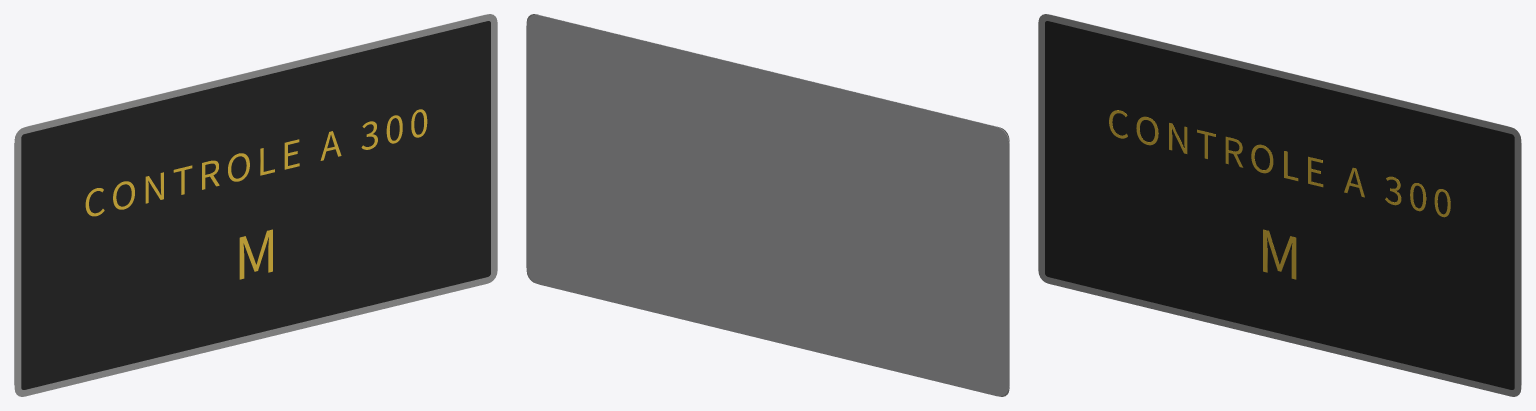
Rendered from MSG_CONTROLE_A_XXX_M.glb.
3 views of the same model, side by side, from view 1: azimuth 30°, elevation 25°; view 2: azimuth 150°, elevation 25°; view 3: azimuth 330°, elevation 25° (orthographic).
Parts seen in each view (by area): view 1: MSG_CONTROLE_A_XXX_M_fond01, MSG_CONTROLE_A_XXX_M_cadre00, MSG_CONTROLE_A_XXX_M_txt02, MSG_CONTROLE_A_XXX_M_txt03, MSG_CONTROLE_A_XXX_M_dos; view 2: MSG_CONTROLE_A_XXX_M_dos; view 3: MSG_CONTROLE_A_XXX_M_fond01, MSG_CONTROLE_A_XXX_M_cadre00, MSG_CONTROLE_A_XXX_M_txt02, MSG_CONTROLE_A_XXX_M_txt03, MSG_CONTROLE_A_XXX_M_dos.
Part boxes in pixels (left/top/right/bottom): MSG_CONTROLE_A_XXX_M_fond01: left=21, top=21, right=490, bottom=389; MSG_CONTROLE_A_XXX_M_cadre00: left=14, top=14, right=497, bottom=396; MSG_CONTROLE_A_XXX_M_txt02: left=85, top=109, right=427, bottom=216; MSG_CONTROLE_A_XXX_M_txt03: left=239, top=229, right=272, bottom=279; MSG_CONTROLE_A_XXX_M_dos: left=14, top=14, right=484, bottom=384; MSG_CONTROLE_A_XXX_M_dos: left=526, top=14, right=1009, bottom=396; MSG_CONTROLE_A_XXX_M_fond01: left=1045, top=21, right=1514, bottom=389; MSG_CONTROLE_A_XXX_M_cadre00: left=1038, top=14, right=1521, bottom=396; MSG_CONTROLE_A_XXX_M_txt02: left=1109, top=110, right=1450, bottom=217; MSG_CONTROLE_A_XXX_M_txt03: left=1263, top=229, right=1296, bottom=279; MSG_CONTROLE_A_XXX_M_dos: left=1051, top=14, right=1521, bottom=384.
Size of the model in its own units: 1.5 by 0.8 by 0.0029.
